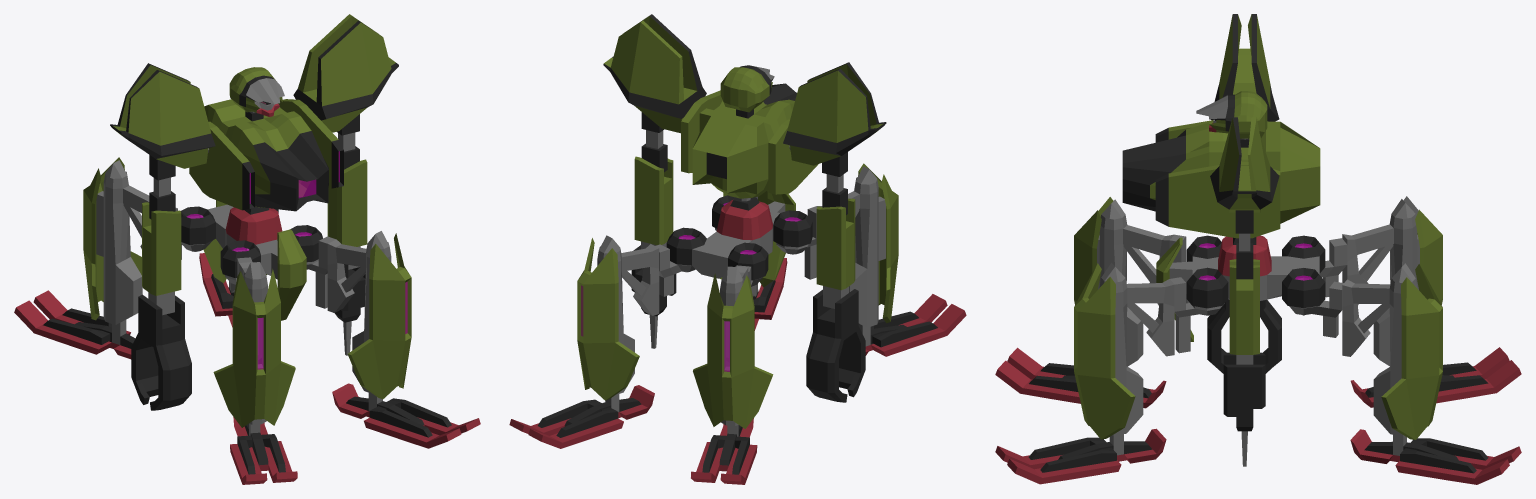
The model's file is robo.fbx.
3 renders of one model, left to right at view 1: azimuth 30°, elevation 25°; view 2: azimuth 150°, elevation 25°; view 3: azimuth 270°, elevation 25°, orthographic. The views are drawn at different scales.
Parts seen in each view (by area): view 1: polySurface14 (×4), polySurface5 (×2), body, polySurface12 (×4), kosi, polySurface7 (×2), polySurface10, polySurface13 (×2), head, polySurface6 (×2), polySurface1; view 2: polySurface14 (×3), polySurface5 (×2), polySurface12 (×4), body, kosi, polySurface7 (×2), polySurface10, polySurface6 (×2), head, polySurface13, polySurface1; view 3: polySurface14 (×4), polySurface12 (×4), body, kosi, polySurface13 (×4), polySurface5 (×2), polySurface1, polySurface7, head, polySurface10, polySurface6.
Part boxes in pixels (bbox=[...]): polySurface14 (×4): bbox=[83, 157, 411, 427]; polySurface5 (×2): bbox=[110, 14, 398, 168]; body: bbox=[189, 99, 343, 211]; polySurface12 (×4): bbox=[14, 253, 480, 484]; kosi: bbox=[175, 204, 335, 320]; polySurface7 (×2): bbox=[142, 159, 367, 295]; polySurface10: bbox=[131, 294, 191, 410]; polySurface13 (×2): bbox=[123, 185, 366, 312]; head: bbox=[229, 67, 284, 116]; polySurface6 (×2): bbox=[149, 114, 359, 219]; polySurface1: bbox=[334, 264, 365, 355]; polySurface14 (×3): bbox=[577, 163, 898, 428]; polySurface5 (×2): bbox=[603, 14, 886, 165]; polySurface12 (×4): bbox=[509, 258, 966, 484]; body: bbox=[681, 83, 818, 201]; kosi: bbox=[655, 190, 817, 296]; polySurface7 (×2): bbox=[634, 156, 855, 290]; polySurface10: bbox=[806, 289, 865, 402]; polySurface6 (×2): bbox=[641, 112, 847, 214]; head: bbox=[720, 65, 774, 112]; polySurface13: bbox=[621, 244, 659, 315]; polySurface1: bbox=[631, 245, 676, 348]; polySurface14 (×4): bbox=[1074, 196, 1442, 439]; polySurface12 (×4): bbox=[995, 347, 1521, 484]; body: bbox=[1122, 120, 1320, 238]; kosi: bbox=[1156, 234, 1347, 353]; polySurface13 (×4): bbox=[1123, 224, 1393, 356]; polySurface5 (×2): bbox=[1210, 14, 1279, 212]; polySurface1: bbox=[1223, 352, 1265, 466]; polySurface7: bbox=[1229, 259, 1259, 354]; head: bbox=[1196, 91, 1267, 138]; polySurface10: bbox=[1207, 299, 1281, 373]; polySurface6: bbox=[1235, 210, 1253, 279].
Bounding box in the file's own units: 7.46 × 8.85 × 11.64.
5 materials, 5 textured.
